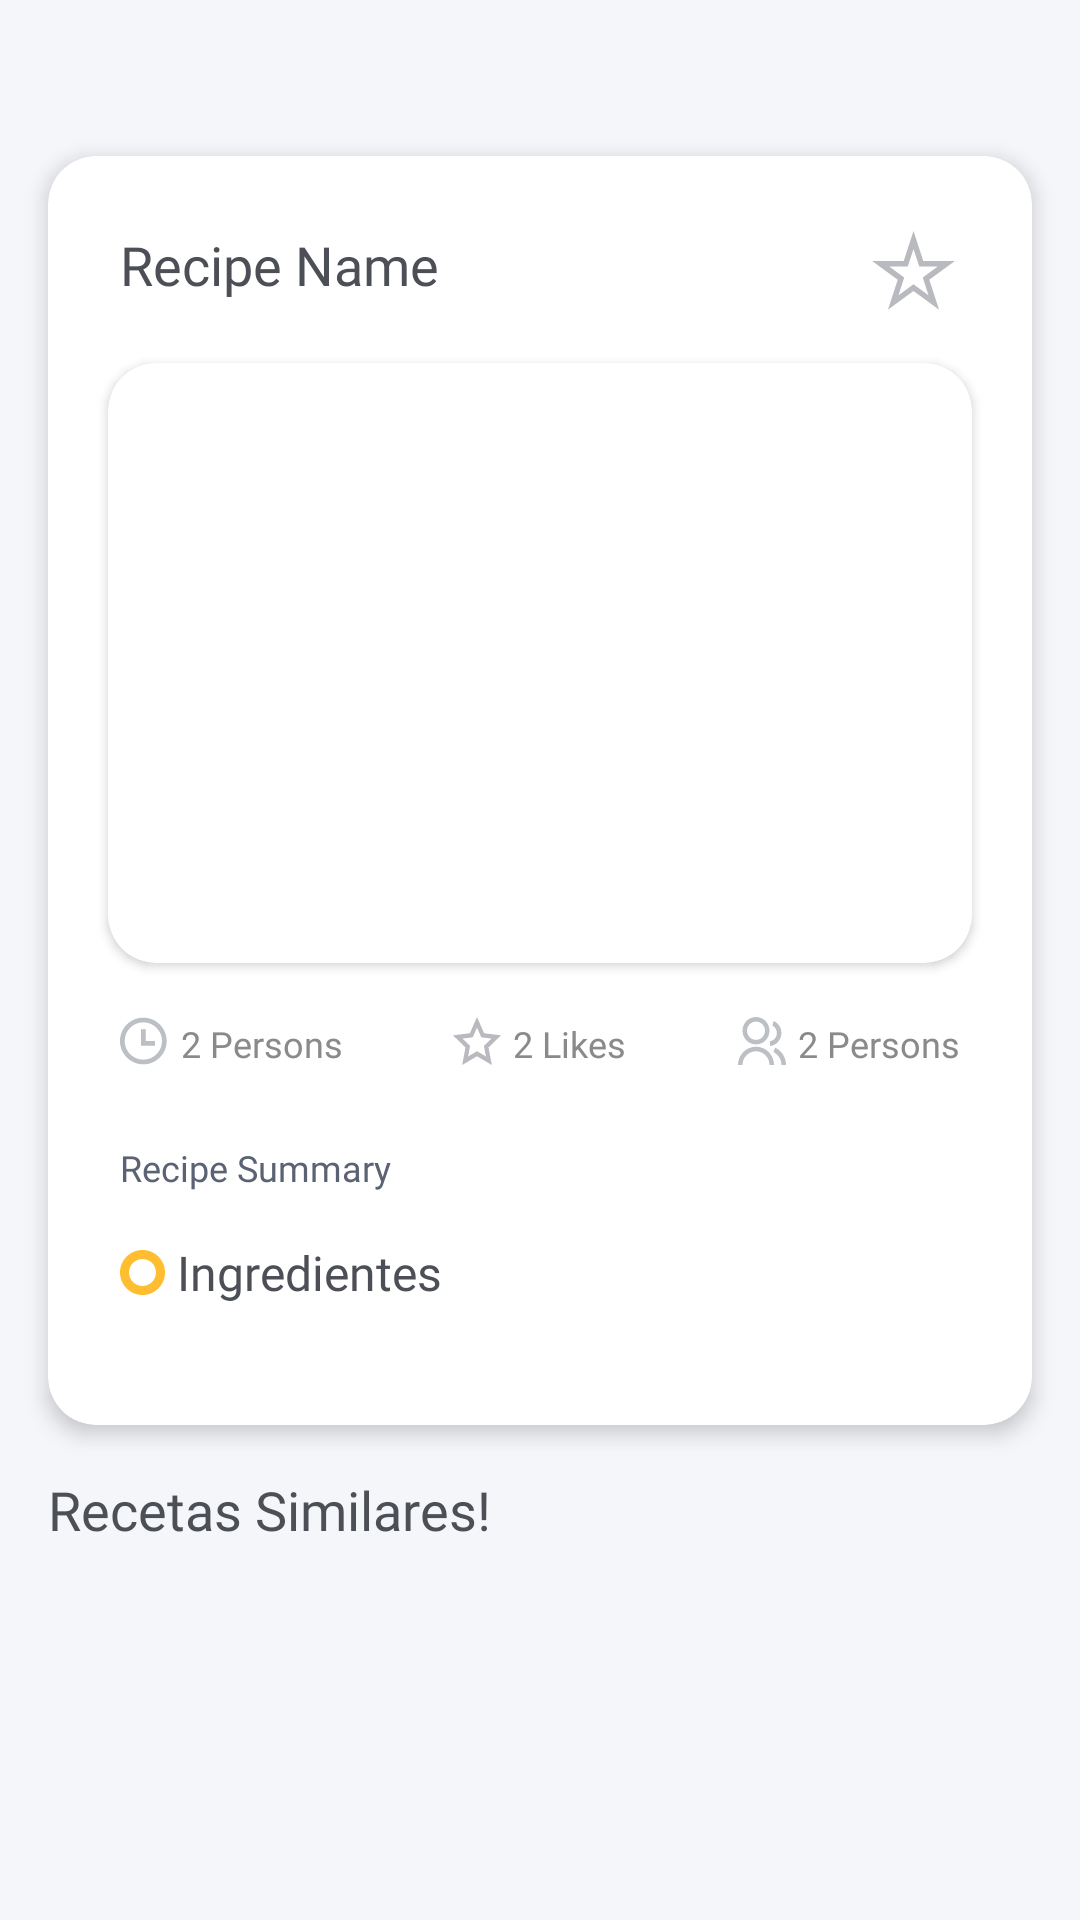

Where to tap for icons on this 1080w x 1920h app screen, as point (x, y):
servingsrecetapp: point (762, 1041)
timerecetapp: point (143, 1041)
